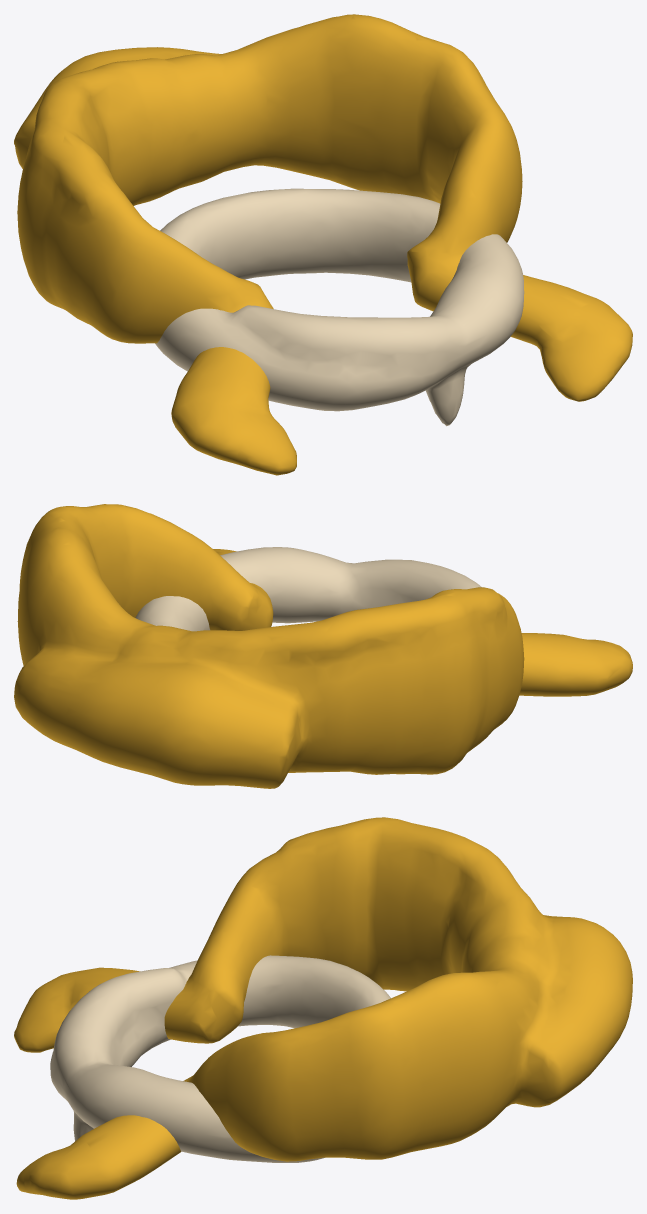
File: collar_packet_v003.glb
3 renders of one model, top to bottom at view 1: azimuth 30°, elevation 25°; view 2: azimuth 150°, elevation 25°; view 3: azimuth 270°, elevation 25°, orthographic. The views are drawn at different scales.
Visible parts, largest first — view 1: SCULPT_HOOD, SCULPT_SCARF; view 2: SCULPT_HOOD, SCULPT_SCARF; view 3: SCULPT_HOOD, SCULPT_SCARF.
Boxes of the visible parts, <box> form: SCULPT_HOOD: <box>14,14,632,475</box>; SCULPT_SCARF: <box>155,188,524,426</box>; SCULPT_HOOD: <box>14,504,632,788</box>; SCULPT_SCARF: <box>135,547,481,631</box>; SCULPT_HOOD: <box>14,817,632,1199</box>; SCULPT_SCARF: <box>50,955,390,1162</box>.
Bounding box in the file's own units: 0.2272 × 0.1162 × 0.2793.
